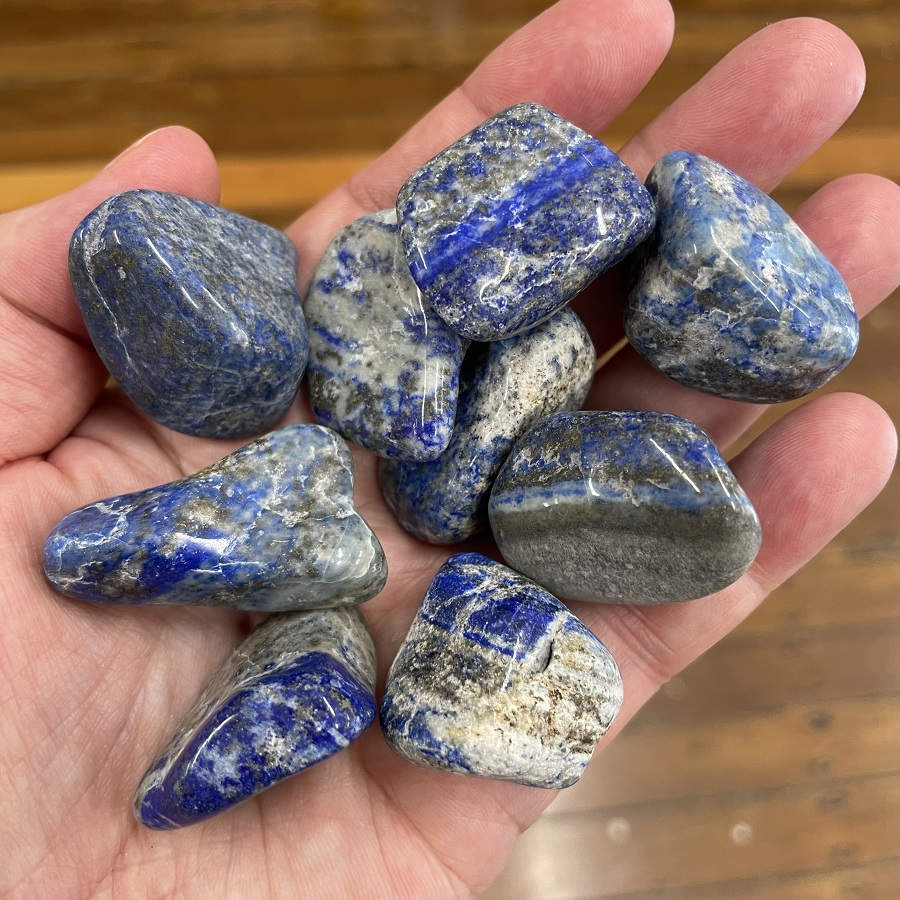Lapis_Lazuli: (32, 423, 393, 614), (61, 183, 320, 439), (392, 97, 652, 343), (380, 546, 627, 795), (484, 403, 768, 611)
